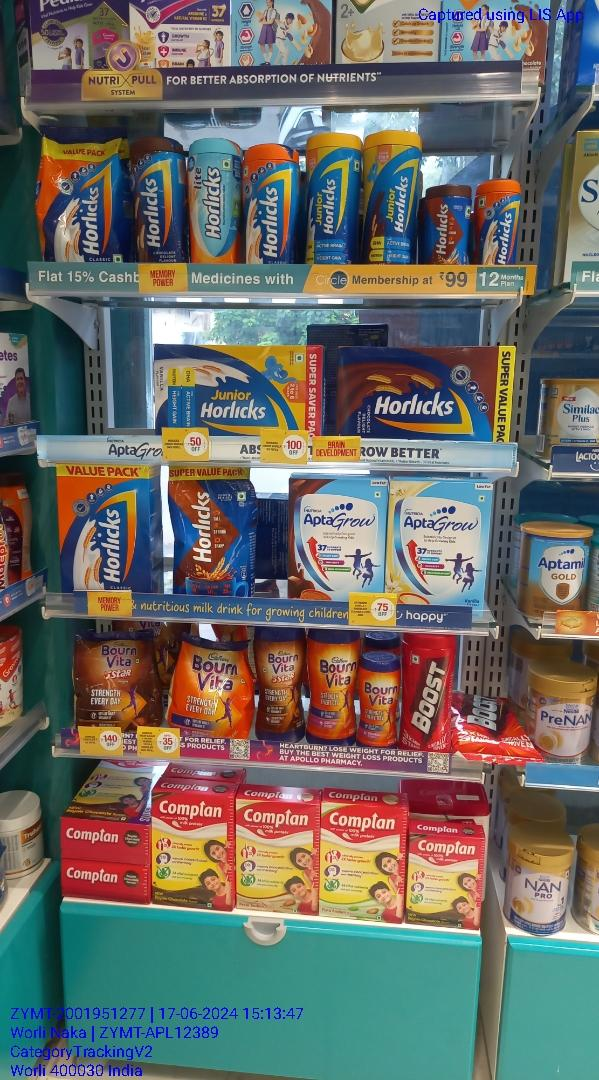BOURN_VITA_200_G_JAR: (360, 651, 398, 748)
BOURN_VITA_500_G_JAR: (310, 627, 359, 743)
BOURN_VITA_500_G_POUCH: (173, 639, 255, 741)
BOURN_VITA_FIVE_STAR_MAGIC_500_G_JAR: (258, 626, 306, 746)
BOURN_VITA_FIVE_STAR_MAGIC_500_G_POUCH: (75, 630, 162, 729)
COMPLAN_CHOCOLATE_200_GMS_PACK: (407, 833, 484, 927)
COMPLAN_CHOCOLATE_500_GMS_PACK: (151, 790, 236, 909)
COMPLAN_KESAR_BADAM_500_GMS_PACK: (239, 801, 316, 915)
COMPLAN_PISTA_BADAM_500_GMS_PACK: (318, 804, 403, 920)
HORLICKS_JUNIOR_VANILLA_500_GM_JAR: (304, 137, 357, 263)
HORLICKS_LITE_REGULAR_MALT_500_GM_JAR: (188, 137, 245, 263)
HORLICK_CHOCOLATE_200_G_JAR: (425, 186, 471, 266)
HORLICK_CLASSIC_MALT_200_G_JAR: (476, 179, 521, 265)
HORLICK_CLASSIC_MALT_500_G_JAR: (248, 141, 297, 263)
HORLICK_CLASSIC_MALT_500_G_PACK: (61, 465, 153, 596)
HORLICK_CLASSIC_MALT_750_G_POUCH: (36, 131, 125, 263)
